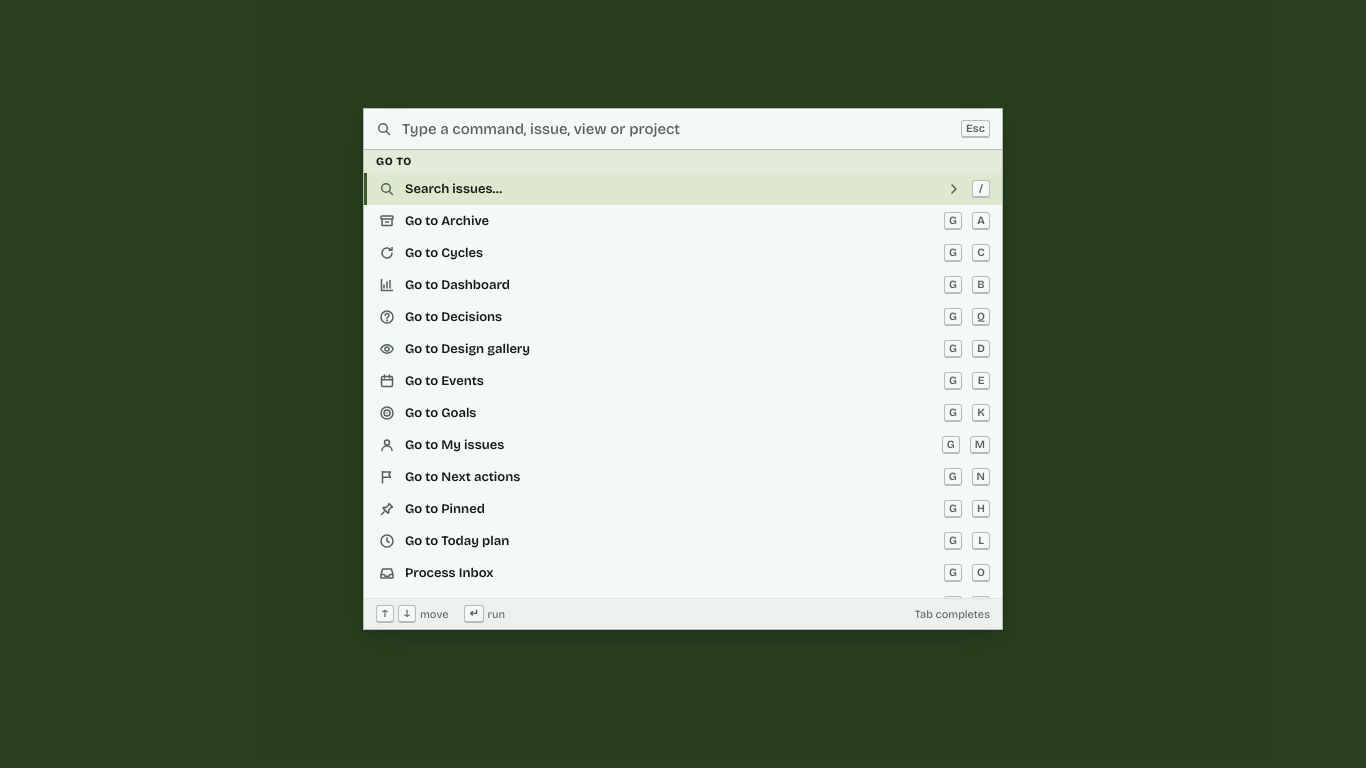
Test: CommandPalette › nested_page_opens_and_backspace_on_empty_goes_back
In the dropdown with placeholder "Type a command, issue, view or project": (677, 128) [400,118,953,138], type "zebra set status"
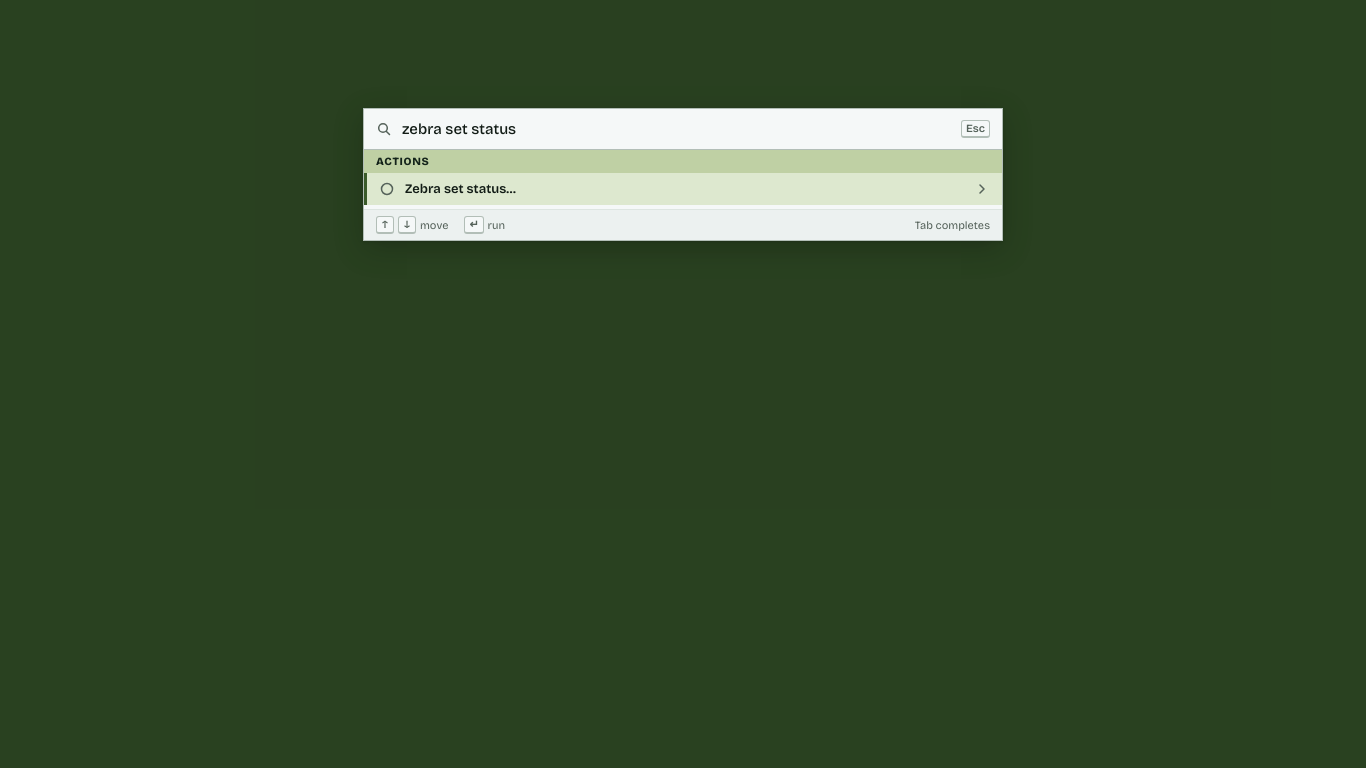
Press Enter in the dropdown named "Search commands, issues, views and projects", box [400,118,953,138]
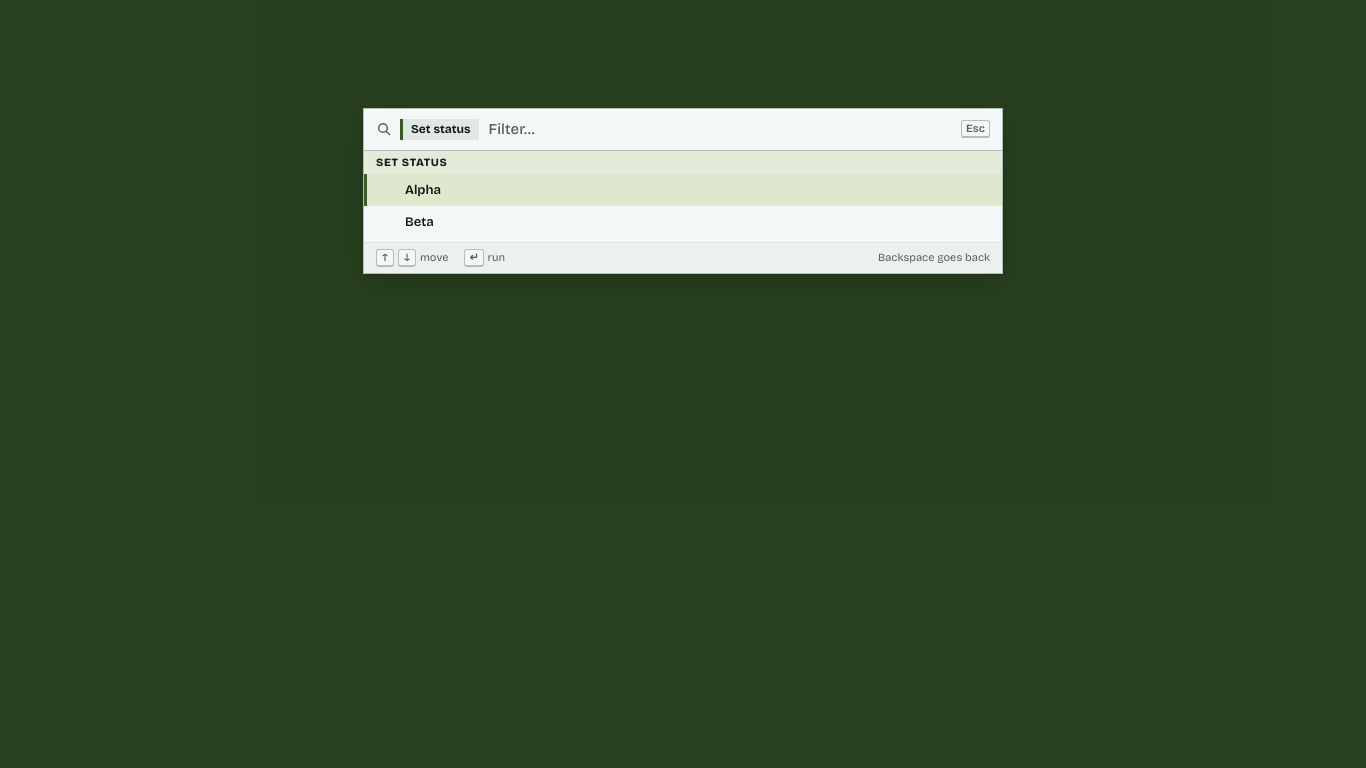
Check: the text with class "crumb" reads "Set status", box [411,122,470,136]
Press Backspace in the dropdown with placeholder "Filter…", box [486,119,953,139]
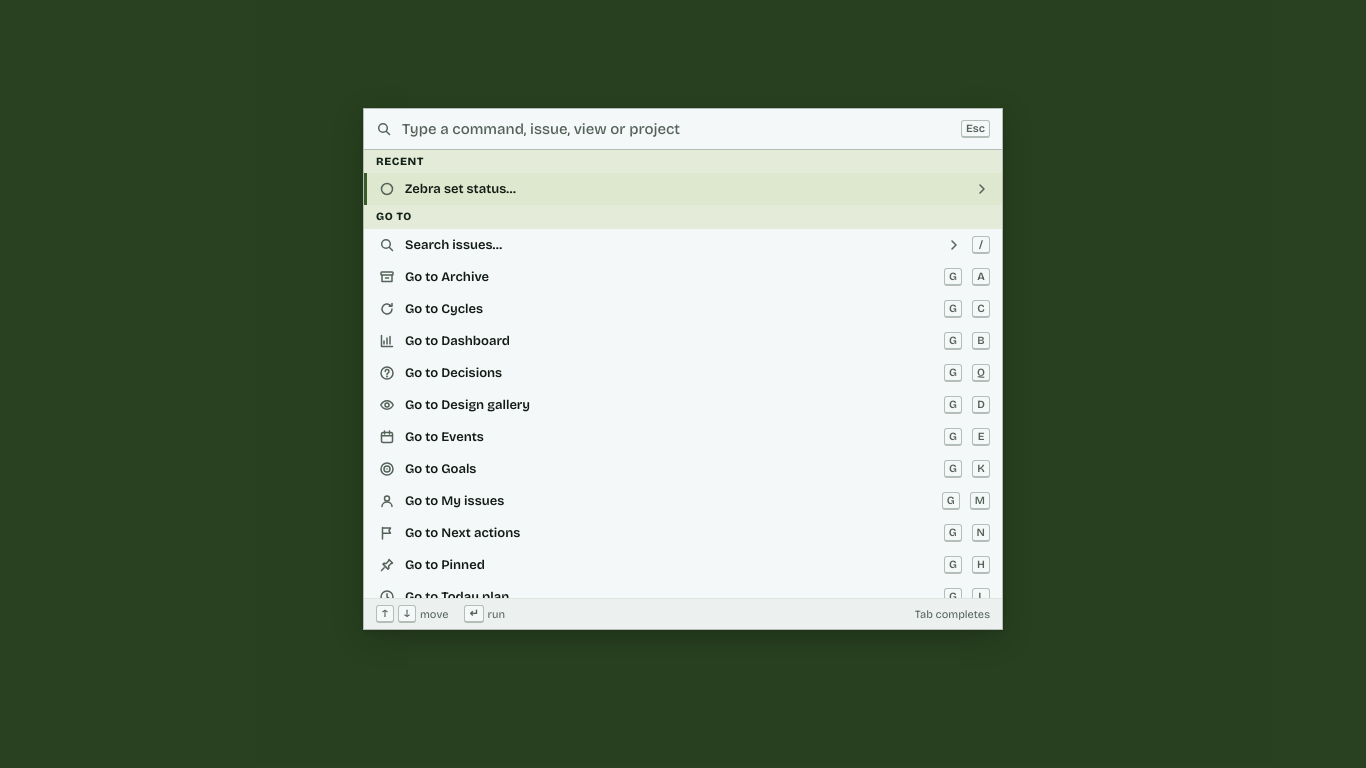
Check: the text with class "crumb" is gone
